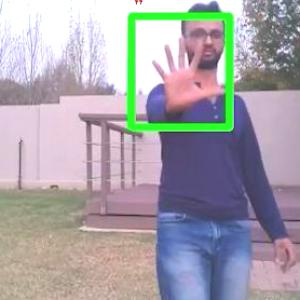follow_hand: (145, 30, 231, 113)
